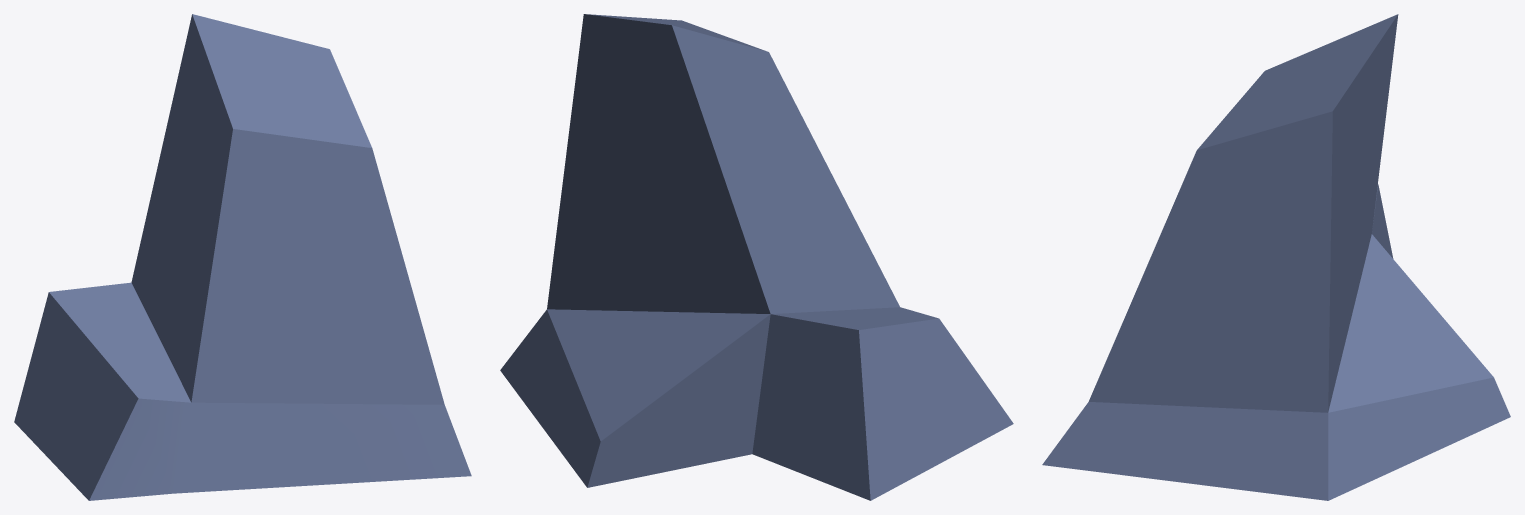
The model's file is piedra_5.fbx.
The picture shows the model from 3 angles, left to right: view 1: azimuth 30°, elevation 25°; view 2: azimuth 150°, elevation 25°; view 3: azimuth 270°, elevation 25°; orthographic projection. The views are drawn at different scales.
Parts seen in each view (by area): view 1: p_piedra_grande2; view 2: p_piedra_grande2; view 3: p_piedra_grande2.
Boxes of the visible parts, x1=… form: p_piedra_grande2: x1=14, y1=14, x2=471, y2=500; p_piedra_grande2: x1=500, y1=14, x2=1013, y2=500; p_piedra_grande2: x1=1042, y1=14, x2=1510, y2=500.
Size of the model in its own units: 252 by 232 by 251.
